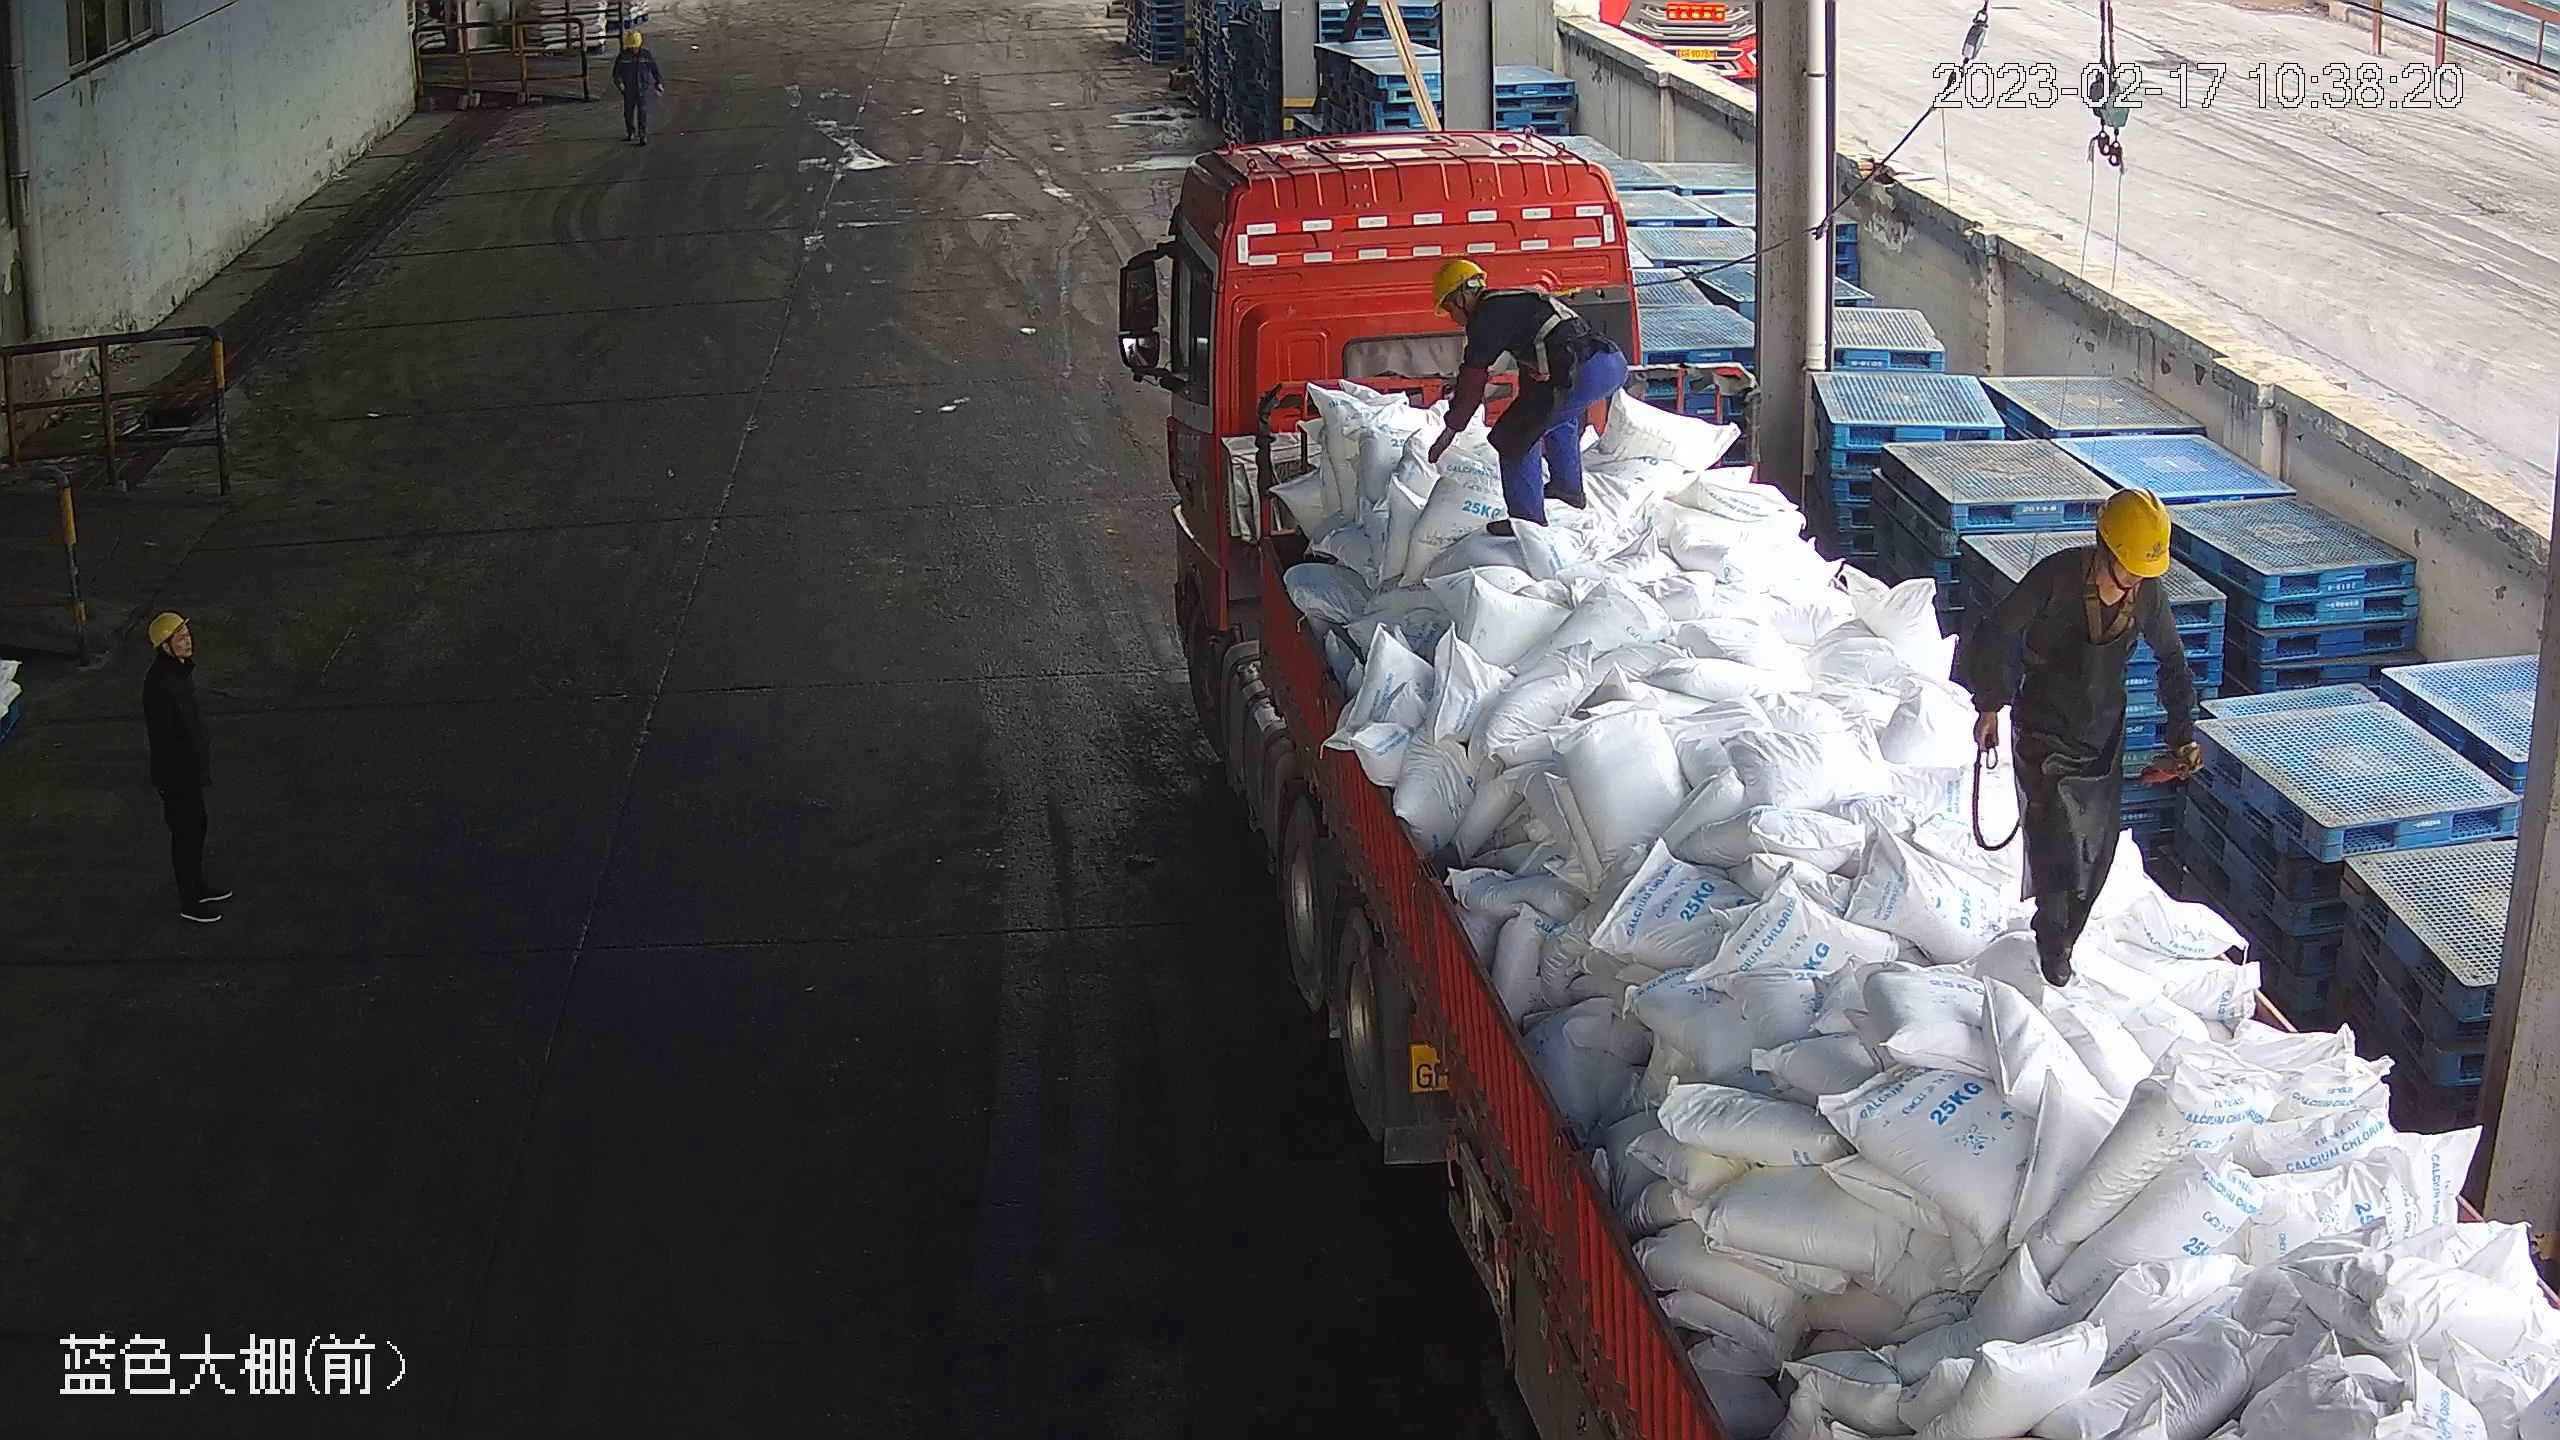belt: (1484, 283, 1589, 382), (2058, 540, 2145, 646)
head: (2017, 486, 2172, 619), (1426, 253, 1536, 344), (138, 611, 199, 702)
helmet: (2096, 486, 2170, 580), (1431, 256, 1487, 318), (148, 610, 190, 648)
people: (1964, 487, 2206, 991), (1426, 254, 1629, 539), (141, 611, 239, 924)
truck: (1166, 125, 2560, 1440)
